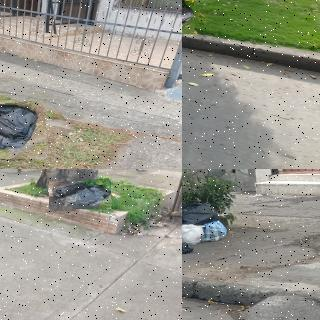Garbage: (0, 102, 47, 161), (48, 179, 112, 211), (182, 201, 217, 224), (182, 223, 205, 244), (203, 220, 227, 240), (182, 0, 194, 34)
